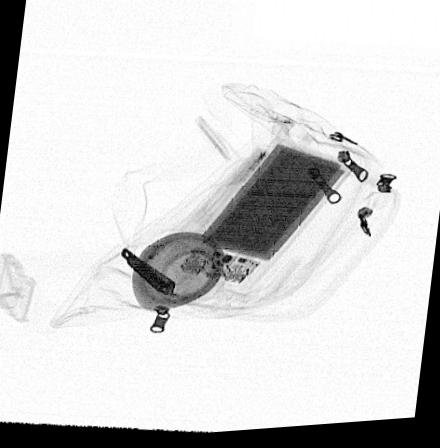Powerbank: (174, 144, 353, 294)
